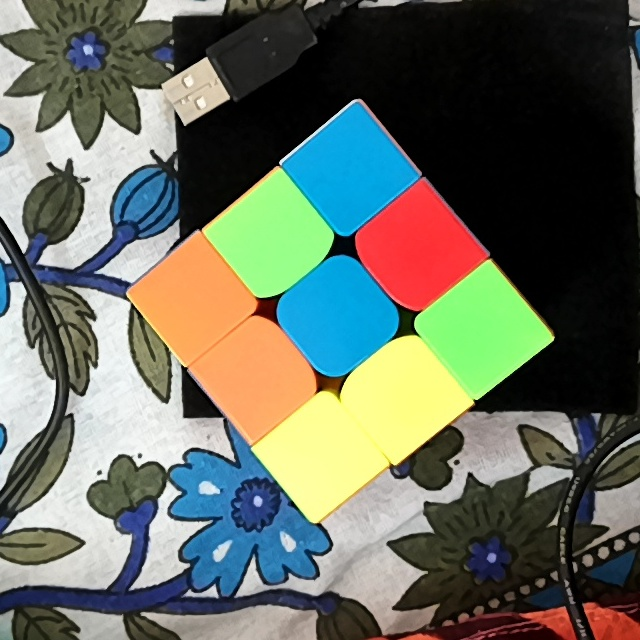tile: (222, 344, 291, 413), (448, 294, 516, 364), (236, 205, 306, 273), (304, 284, 372, 353), (369, 364, 438, 431), (161, 263, 228, 332), (315, 138, 383, 205), (385, 215, 450, 280), (286, 424, 353, 487)
